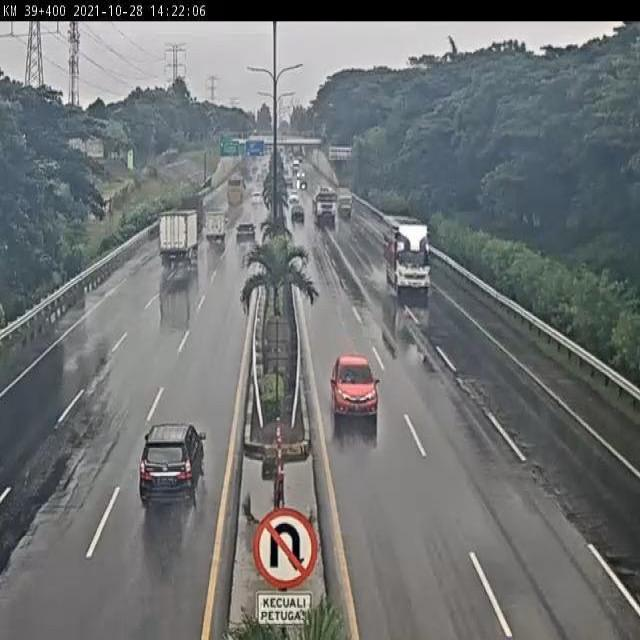car: (136, 422, 209, 510), (329, 352, 381, 421), (234, 219, 257, 248), (291, 204, 305, 224)
truck-l-: (381, 216, 433, 292), (156, 206, 202, 270)
truck-s-: (203, 207, 230, 245)
truck-xl-: (312, 188, 337, 224)
